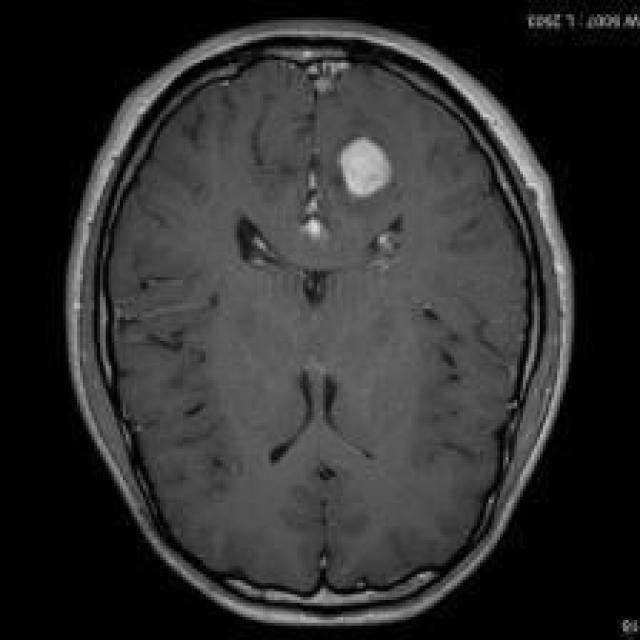Tumor: (337, 137, 397, 203)
